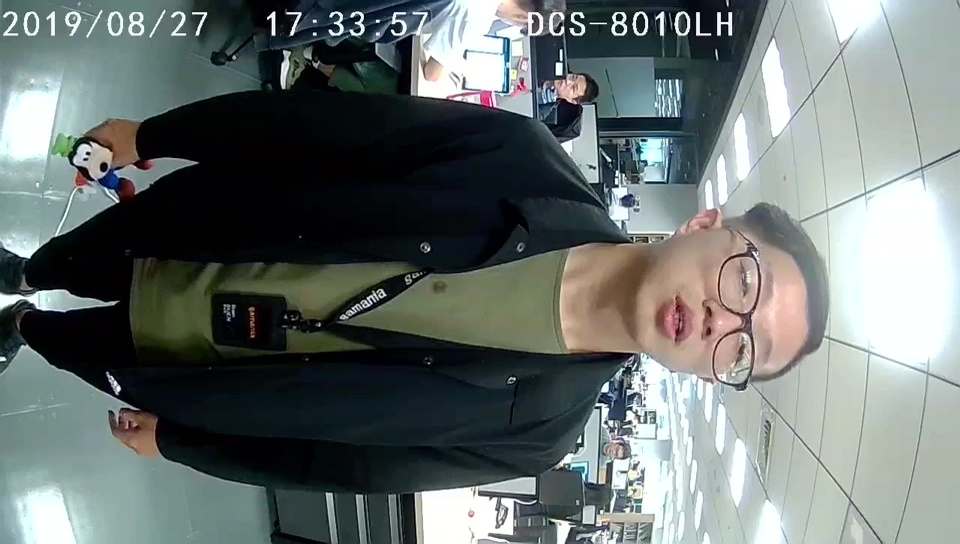goofy: (49, 132, 135, 203)
